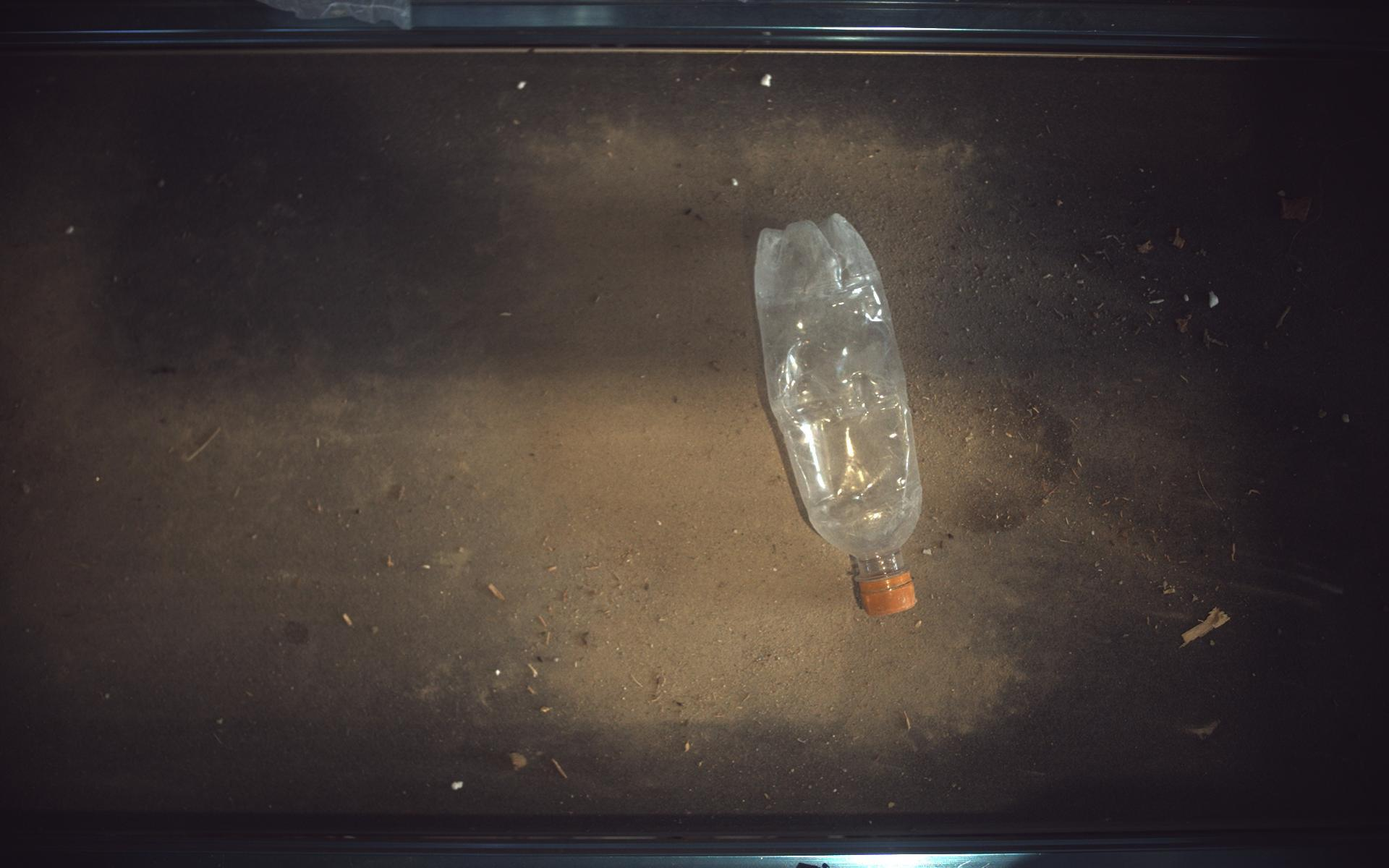general_w: (756, 213, 924, 617)
